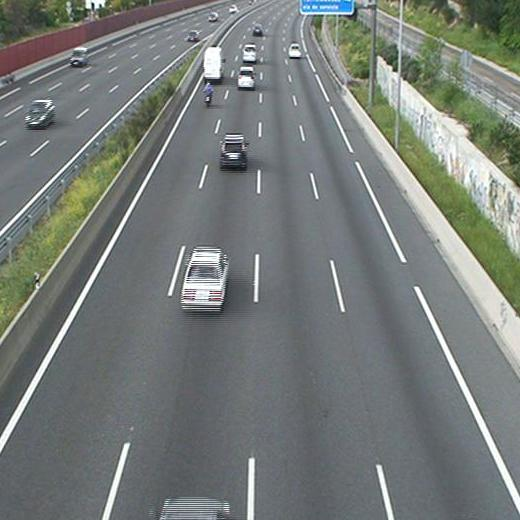car: (179, 250, 229, 311), (219, 136, 246, 165), (237, 66, 255, 87), (242, 45, 258, 62), (287, 43, 302, 58), (252, 24, 263, 35)
motorcycle: (201, 81, 215, 106)
van: (203, 47, 223, 79)
